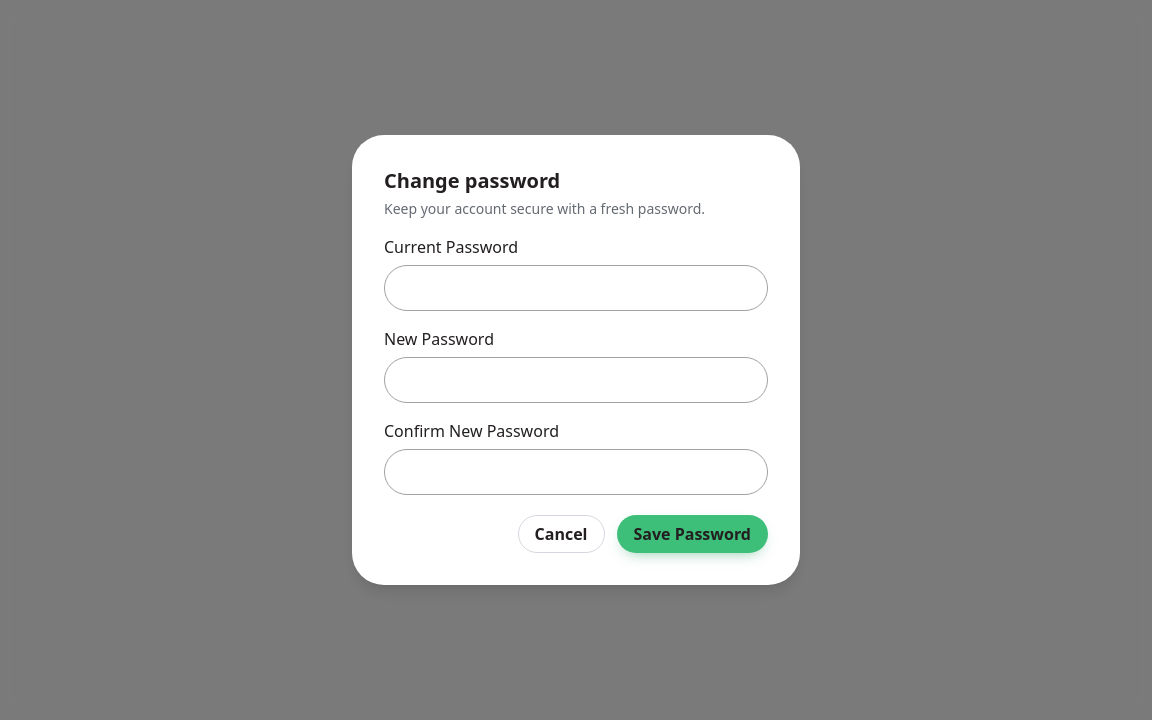
Test: ResetPasswordModal › shows validation error when current password is missing
In the password field labelled "New Password": coordinates (576, 380) [384,357,768,403], type "NewPassword!456"
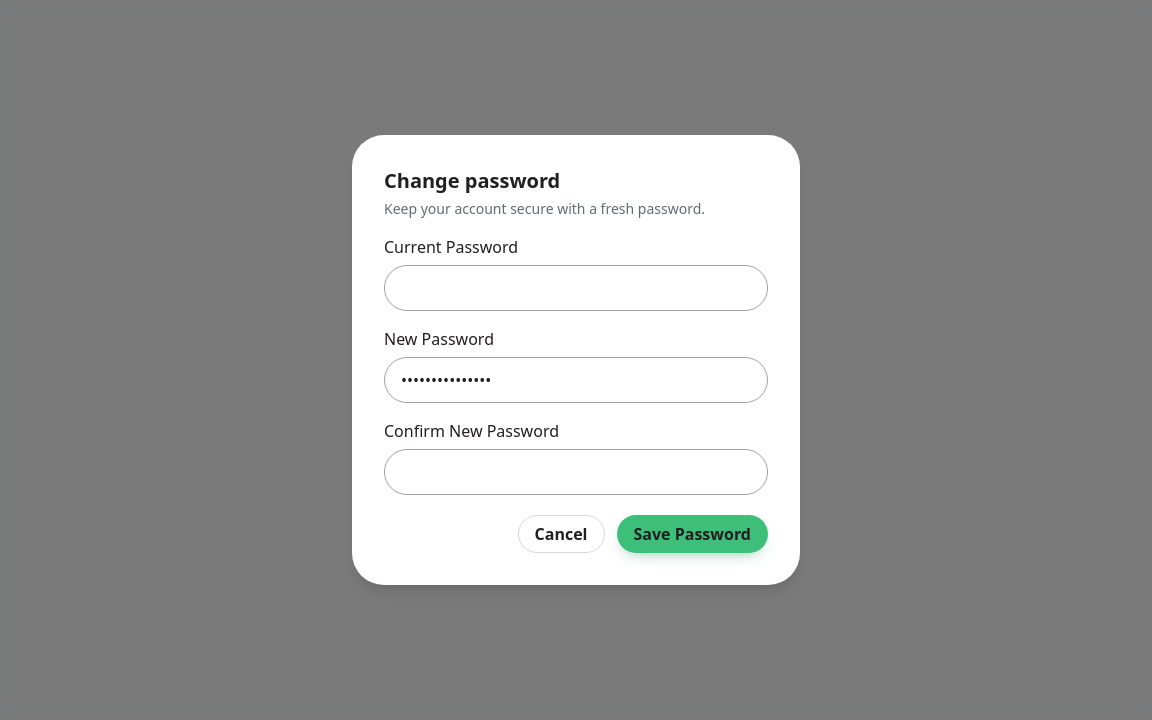
In the password field labelled "Confirm New Password": coordinates (576, 472) [384,449,768,495], type "NewPassword!456"
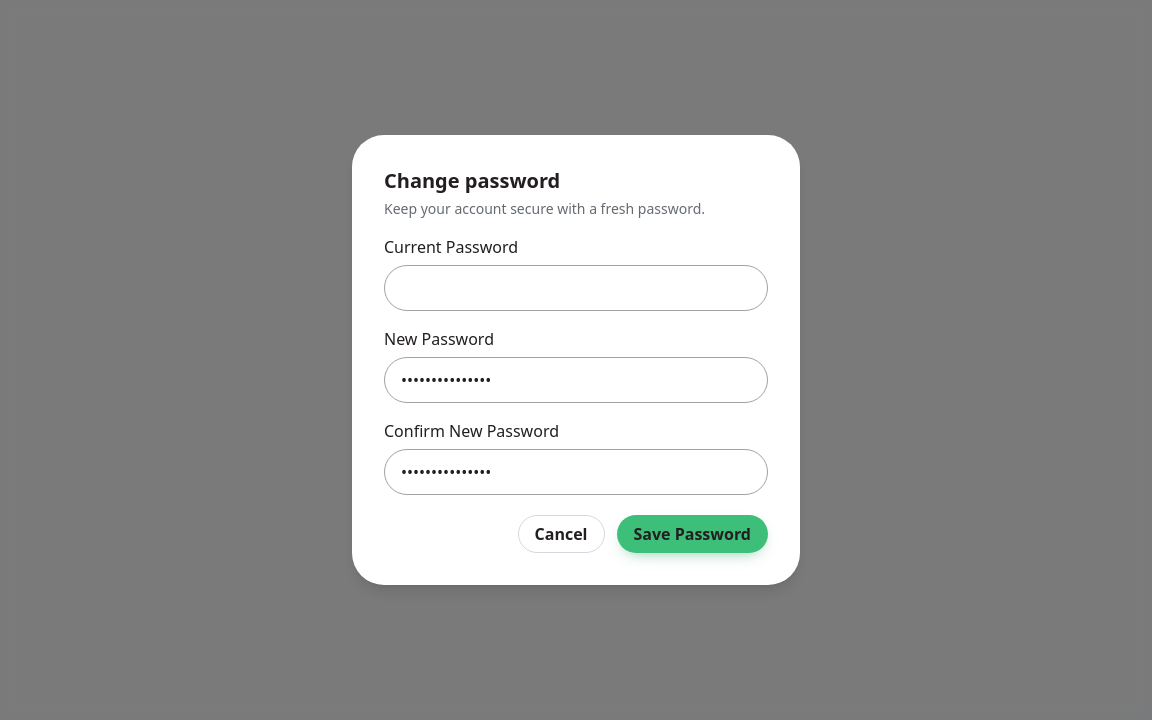
Submit the form named "Save Password", box [384,167,768,553]
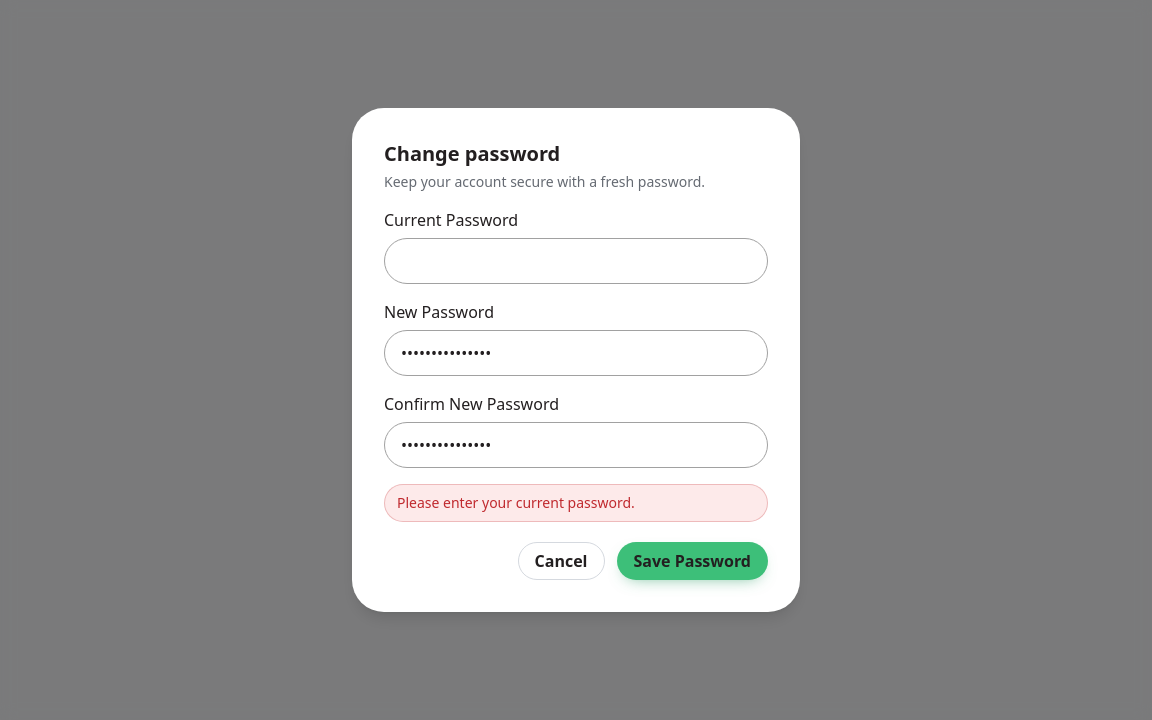
Result: the message reads "Please enter your current password." at [397,493,635,512]
